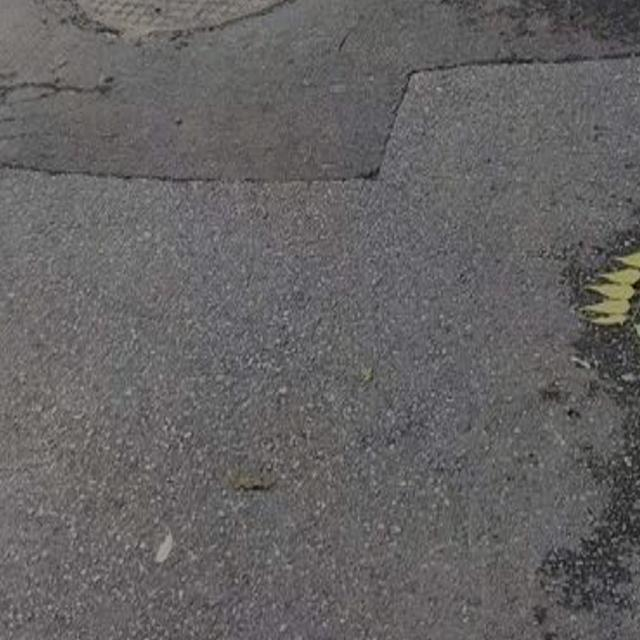circle: (0, 0, 546, 169)
